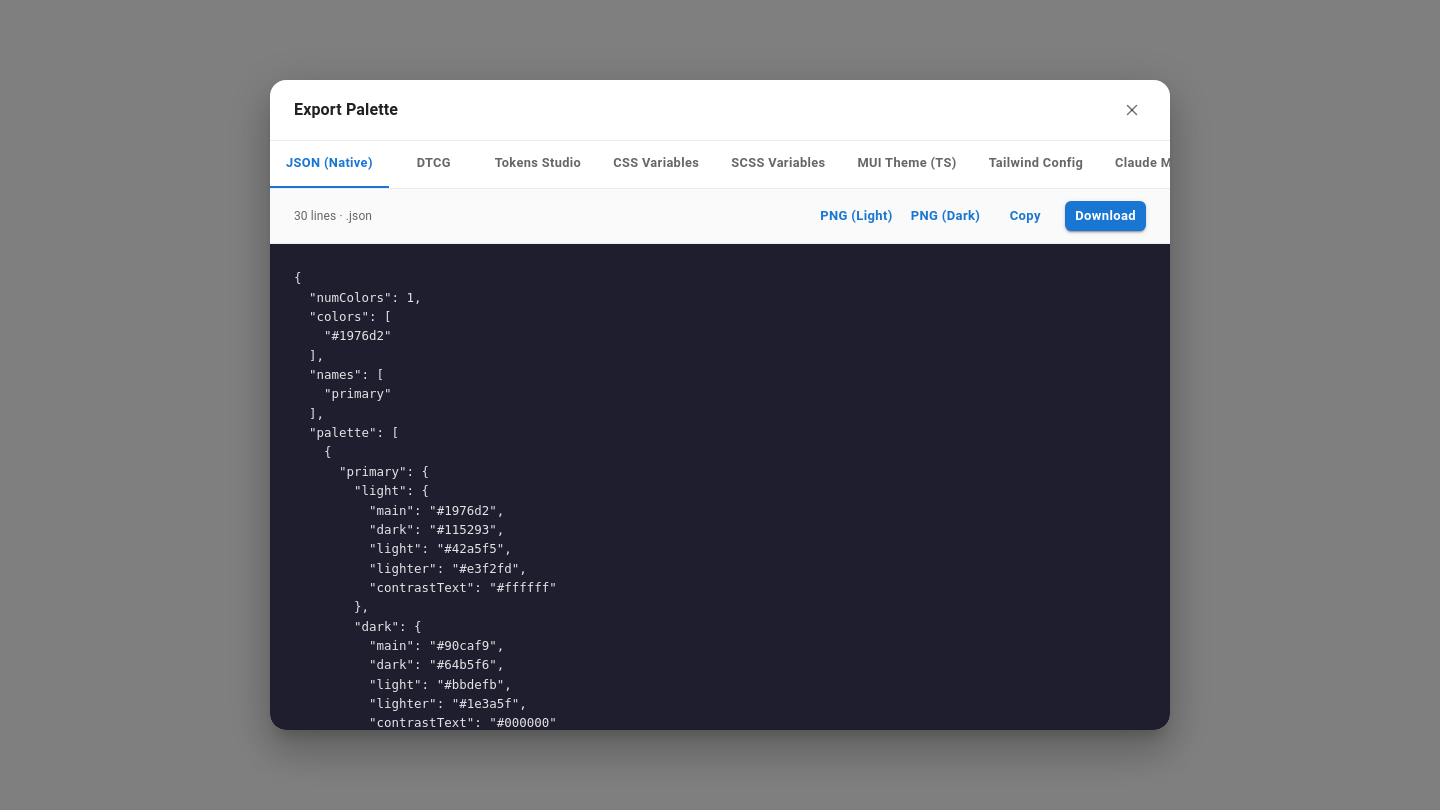
ExportHubDialog › switches to CSS tab when clicked
Click the tab "CSS Variables" at (656, 163), box [597,141,715,185]
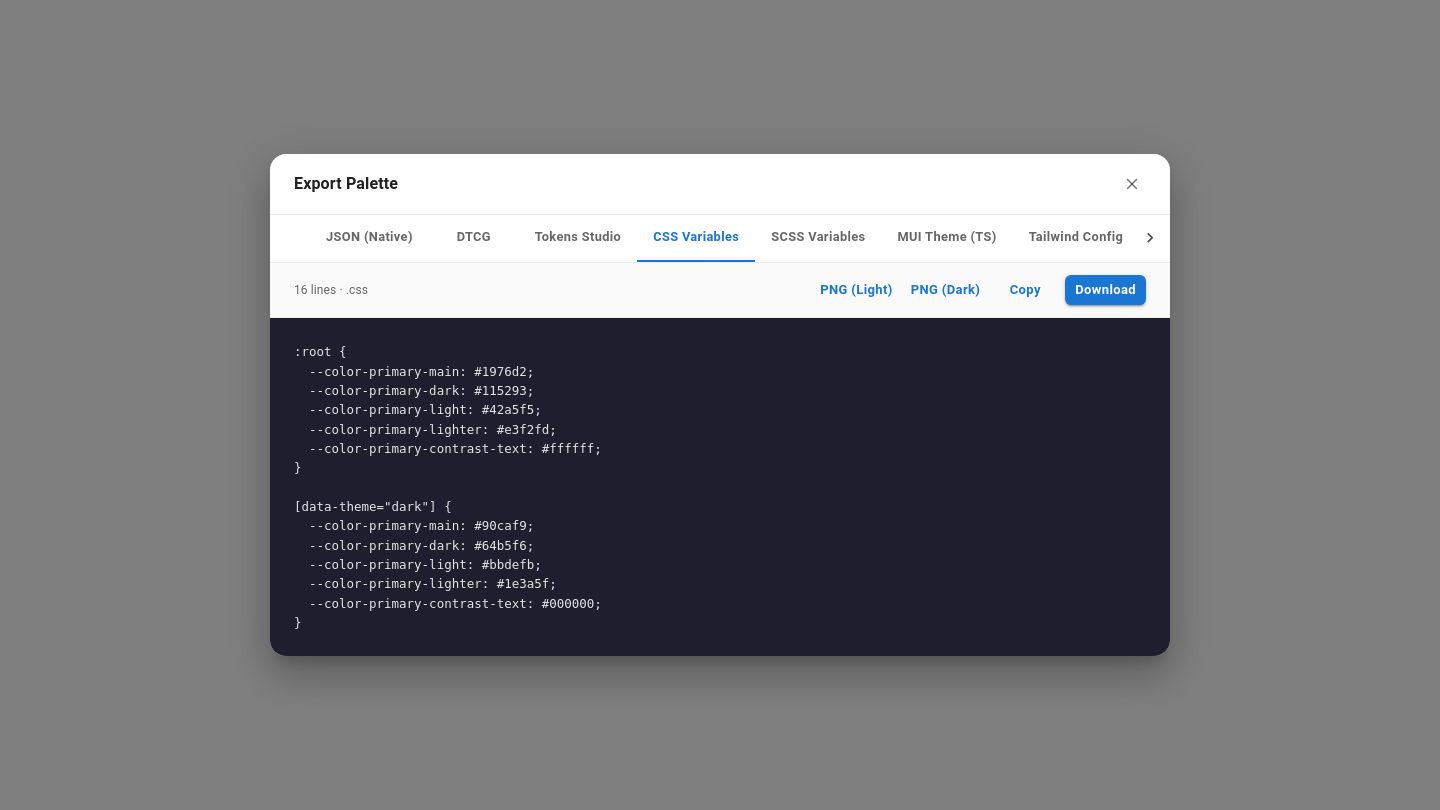
Check: the text ":root {" is shown, box [294,344,602,630]
